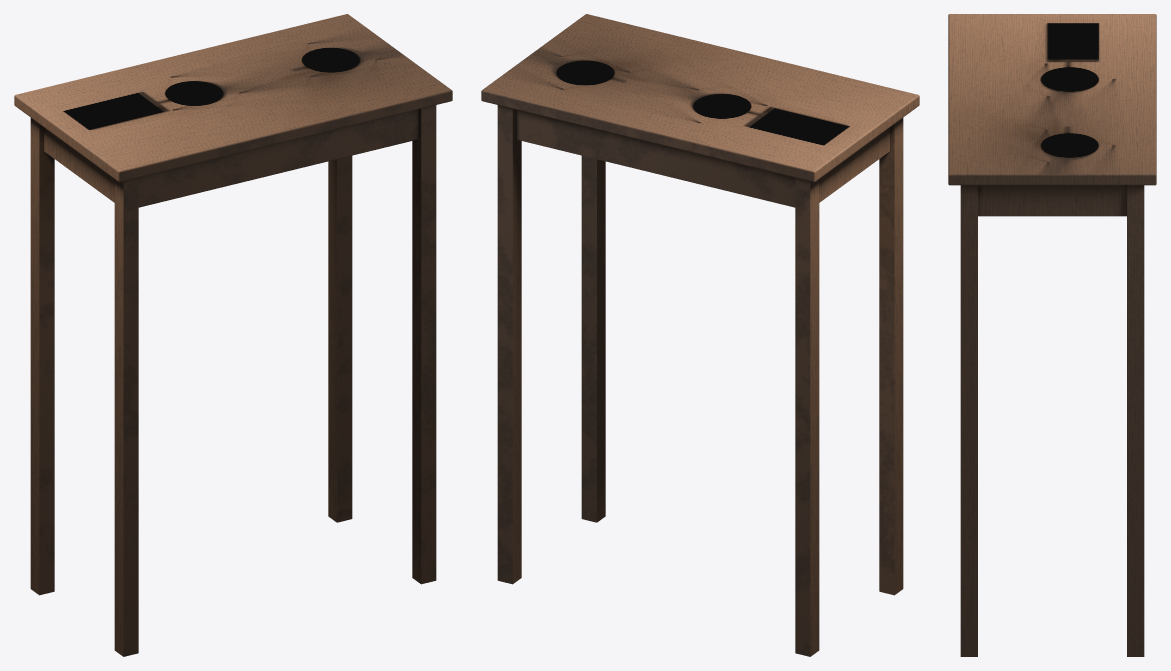
The model's file is 813_heat.glb.
The picture shows the model from 3 angles, left to right: view 1: azimuth 30°, elevation 25°; view 2: azimuth 150°, elevation 25°; view 3: azimuth 270°, elevation 25°; orthographic projection.
Visible parts, largest first — view 1: Table; view 2: Table; view 3: Table.
Boxes of the visible parts, x1=… form: Table: x1=14, y1=14, x2=452, y2=656; Table: x1=481, y1=14, x2=919, y2=656; Table: x1=948, y1=14, x2=1156, y2=656.
Size of what is drawn, in the model's own units: 2.2 by 3.1 by 1.2.
Materials: 1 (1 with a texture image).
